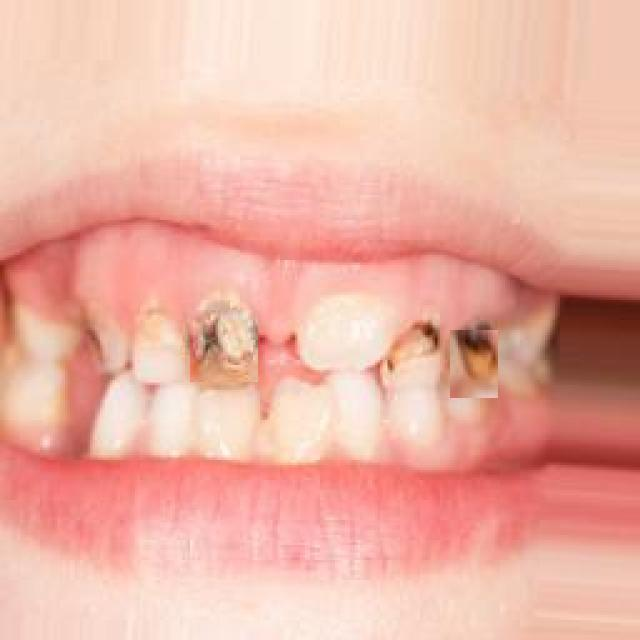caries: (190, 310, 258, 382), (450, 330, 498, 398), (383, 333, 443, 373)
